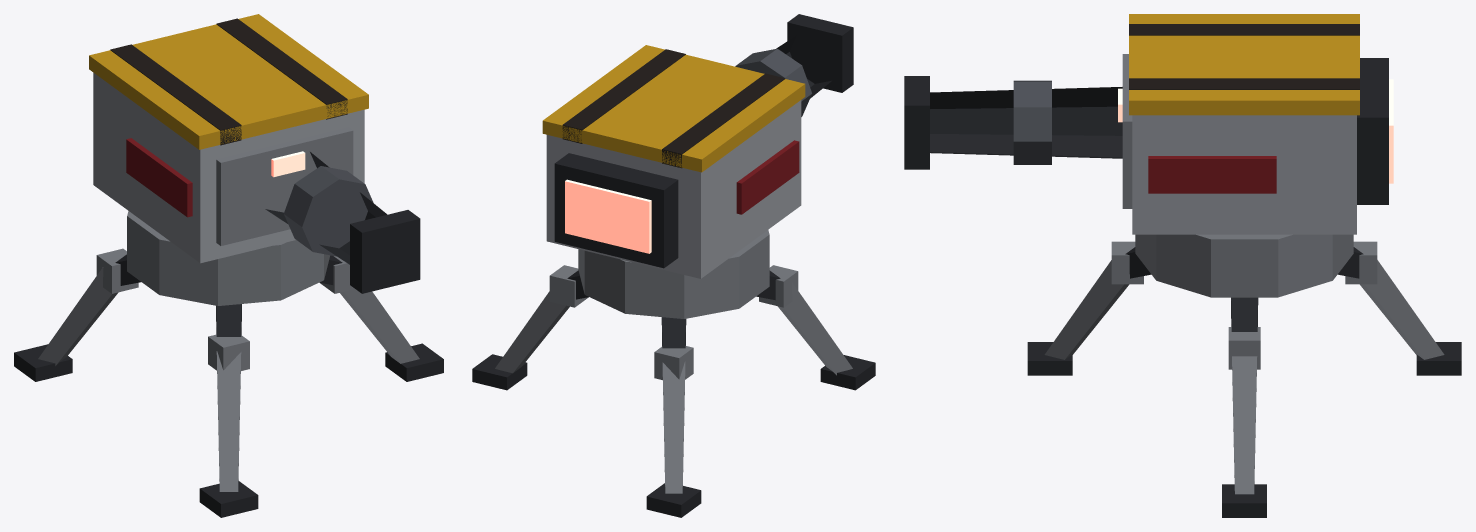
File: turret.glb
3 renders of one model, left to right at view 1: azimuth 30°, elevation 25°; view 2: azimuth 150°, elevation 25°; view 3: azimuth 270°, elevation 25°, orthographic. The views are drawn at different scales.
Visible parts, largest first — view 1: TurretHull, TurretGlow; view 2: TurretHull, TurretGlow; view 3: TurretHull, TurretGlow.
Part boxes in pixels (bbox=[...]): TurretHull: bbox=[14, 14, 443, 517]; TurretGlow: bbox=[271, 151, 305, 177]; TurretHull: bbox=[472, 14, 875, 517]; TurretGlow: bbox=[565, 179, 651, 253]; TurretHull: bbox=[904, 14, 1461, 517]; TurretGlow: bbox=[1118, 79, 1393, 183].
Size of the model in its own units: 1.19 by 1.23 by 1.74.
